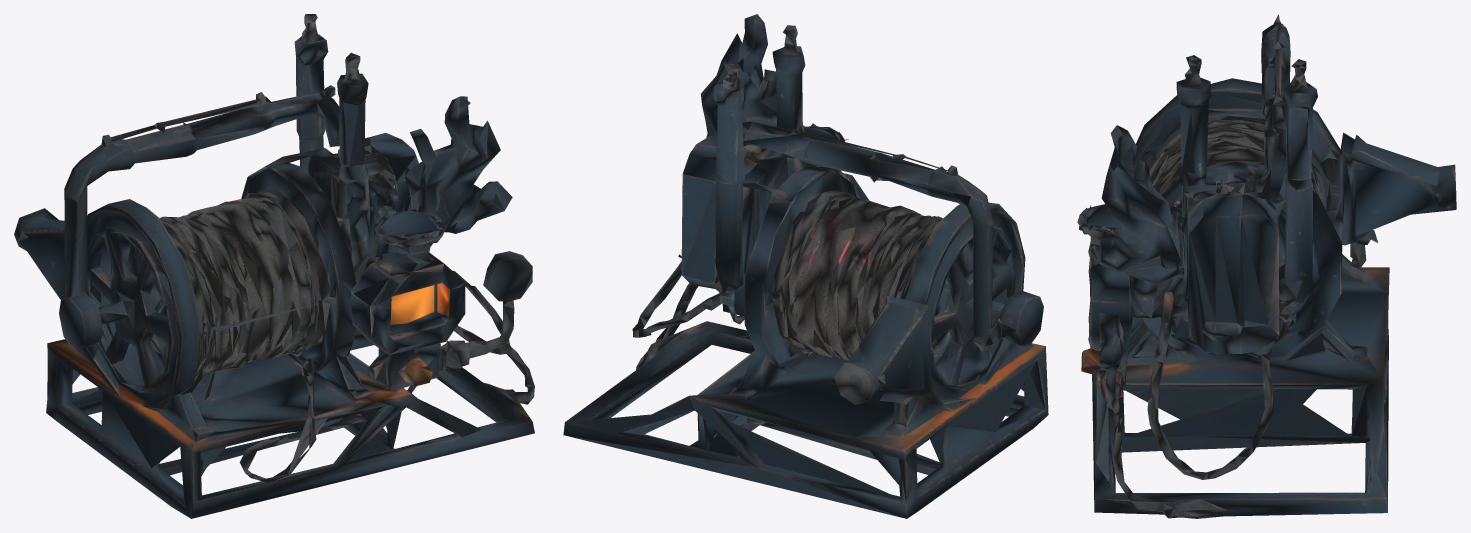
The model's file is fv_reforger.glb.
3 renders of one model, left to right at view 1: azimuth 30°, elevation 25°; view 2: azimuth 150°, elevation 25°; view 3: azimuth 270°, elevation 25°, orthographic. The views are drawn at different scales.
Visible parts, largest first — view 1: fv_reforger; view 2: fv_reforger; view 3: fv_reforger.
Boxes of the visible parts, x1,y1,x2,y2 form: fv_reforger: [14, 14, 534, 518]; fv_reforger: [563, 14, 1048, 518]; fv_reforger: [1077, 14, 1456, 518].
Size of the model in its own units: 2.4 by 2.07 by 1.84.
1 material, 1 textured.
